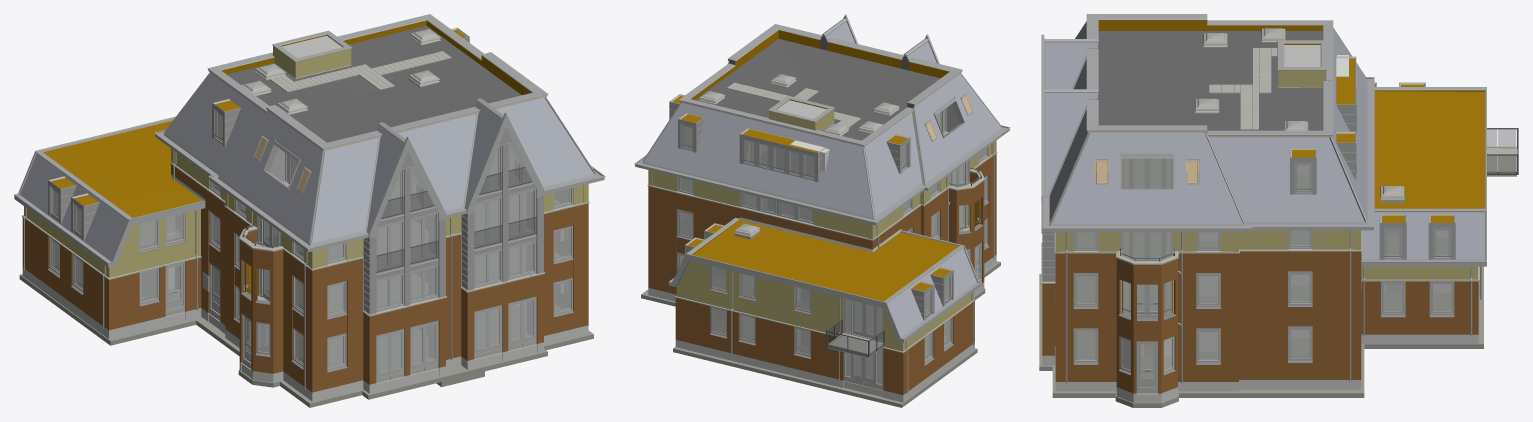
Rendered from Ifc2x3_SampleCastle.glb.
The picture shows the model from 3 angles, left to right: view 1: azimuth 30°, elevation 25°; view 2: azimuth 150°, elevation 25°; view 3: azimuth 270°, elevation 25°; orthographic projection. The views are drawn at different scales.
Visible parts, largest first — view 1: IfcCovering/dakisolatie.002, IfcCovering/plat dak.001, IfcCovering/dakpan (vlak).010, IfcCovering/dakpan (vlak).009, IfcCovering/dakpan (vlak).006, IfcCovering/dakpan (vlak).005, IfcCovering/dakpan (vlak).008, IfcCovering/dakpan (vlak), IfcCovering/plat dak, IfcSlab/dekvloer.005, IfcCovering/dakpan (vlak).013, IfcCovering/dakpan (vlak).003 (+73 smaller); view 2: IfcCovering/dakpan (vlak).007, IfcCovering/dakisolatie.002, IfcCovering/plat dak.001, IfcCovering/dakpan (vlak).010, IfcCovering/dakpan (vlak).006, IfcCovering/dakpan (vlak), IfcCovering/boeideel.002, IfcBeam/fund_strook.015, IfcDoor/merk E4-R, IfcWall/buitenblad.232, IfcWall/opgaand werk.030, IfcWall/buitenblad.115 (+65 smaller); view 3: IfcCovering/dakisolatie.002, IfcCovering/plat dak.001, IfcCovering/dakpan (vlak).011, IfcCovering/dakpan (vlak).004, IfcCovering/dakpan (vlak).001, IfcWall/buitenblad.189, IfcWall/buitenblad.188, IfcCovering/dakpan (vlak).012, IfcCovering/dakpan (vlak).007, IfcWall/buitenblad.058, IfcWall/buitenblad.064, IfcBeam/fund_strook.011 (+80 smaller).
Boxes of the visible parts, x1,y1,x2,y2 form: IfcCovering/dakisolatie.002: (227,25,521,142); IfcCovering/plat dak.001: (43,121,179,201); IfcCovering/dakpan (vlak).010: (218,111,322,242); IfcCovering/dakpan (vlak).009: (312,138,378,242); IfcCovering/dakpan (vlak).006: (165,73,265,173); IfcCovering/dakpan (vlak).005: (496,97,593,186); IfcCovering/dakpan (vlak).008: (398,114,476,210); IfcCovering/dakpan (vlak): (20,154,127,260); IfcCovering/plat dak: (110,184,201,217); IfcSlab/dekvloer.005: (249,329,432,372); IfcCovering/dakpan (vlak).013: (465,101,501,207); IfcCovering/dakpan (vlak).003: (367,125,403,230); IfcCovering/dakpan (vlak).007: (644,103,872,217); IfcCovering/dakisolatie.002: (695,39,940,140); IfcCovering/plat dak.001: (693,220,938,301); IfcCovering/dakpan (vlak).010: (915,74,1001,182); IfcCovering/dakpan (vlak).006: (864,112,922,217); IfcCovering/dakpan (vlak): (887,248,976,336); IfcCovering/boeideel.002: (668,255,903,342); IfcBeam/fund_strook.015: (673,347,909,407); IfcDoor/merk E4-R: (844,298,883,342); IfcWall/buitenblad.232: (756,277,794,320); IfcWall/opgaand werk.030: (675,340,843,387); IfcWall/buitenblad.115: (755,317,794,359); IfcCovering/dakisolatie.002: (1098,31,1322,130); IfcCovering/plat dak.001: (1374,91,1484,208); IfcCovering/dakpan (vlak).011: (1052,132,1242,223); IfcCovering/dakpan (vlak).004: (1209,137,1364,221); IfcCovering/dakpan (vlak).001: (1362,212,1484,259); IfcWall/buitenblad.189: (1239,264,1287,320); IfcWall/buitenblad.188: (1312,264,1361,320); IfcCovering/dakpan (vlak).012: (1045,93,1097,194); IfcCovering/dakpan (vlak).007: (1332,29,1366,219); IfcWall/buitenblad.058: (1239,320,1287,368); IfcWall/buitenblad.064: (1312,320,1361,368); IfcBeam/fund_strook.011: (1052,381,1364,397).
Size of the model in its own units: 23.48 by 15.06 by 23.52.
